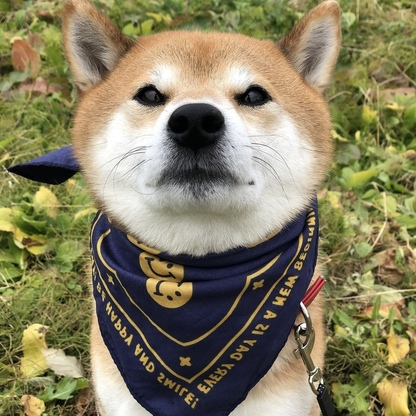shiba: (56, 1, 346, 414)
